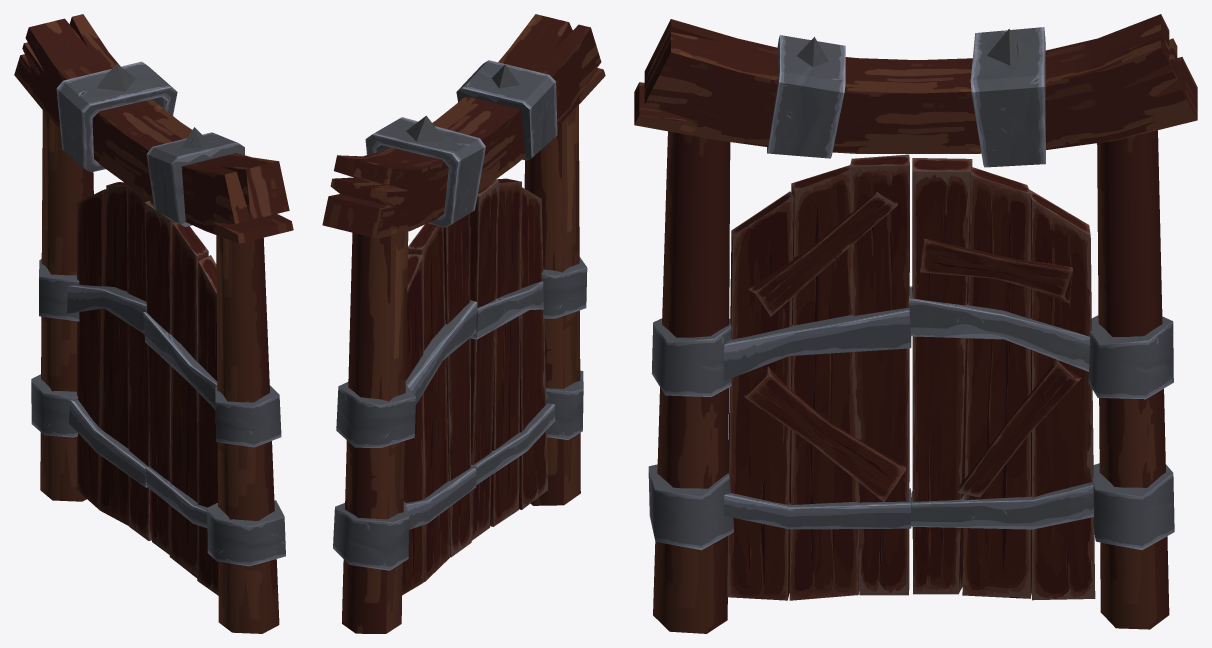
File: SM_PROP_wall_wood_gate_frame_01.fbx
3 renders of one model, left to right at view 1: azimuth 30°, elevation 25°; view 2: azimuth 150°, elevation 25°; view 3: azimuth 270°, elevation 25°, orthographic. The views are drawn at different scales.
Visible parts, largest first — view 1: SM_PROP_wall_wood_gate_frame_01, SM_PROP_wall_wood_gate_door_R_01, SM_PROP_wall_wood_gate_door_L_01; view 2: SM_PROP_wall_wood_gate_frame_01, SM_PROP_wall_wood_gate_door_L_01, SM_PROP_wall_wood_gate_door_R_01; view 3: SM_PROP_wall_wood_gate_frame_01, SM_PROP_wall_wood_gate_door_L_01, SM_PROP_wall_wood_gate_door_R_01.
Boxes of the visible parts, bbox=[...] form: SM_PROP_wall_wood_gate_frame_01: bbox=[14, 14, 293, 633]; SM_PROP_wall_wood_gate_door_R_01: bbox=[66, 182, 151, 540]; SM_PROP_wall_wood_gate_door_L_01: bbox=[143, 201, 218, 595]; SM_PROP_wall_wood_gate_frame_01: bbox=[322, 14, 605, 633]; SM_PROP_wall_wood_gate_door_L_01: bbox=[470, 178, 555, 540]; SM_PROP_wall_wood_gate_door_R_01: bbox=[402, 213, 477, 594]; SM_PROP_wall_wood_gate_frame_01: bbox=[634, 14, 1197, 633]; SM_PROP_wall_wood_gate_door_L_01: bbox=[723, 154, 911, 600]; SM_PROP_wall_wood_gate_door_R_01: bbox=[909, 158, 1095, 600].
Bounding box in the file's own units: 153 × 747 × 648.
